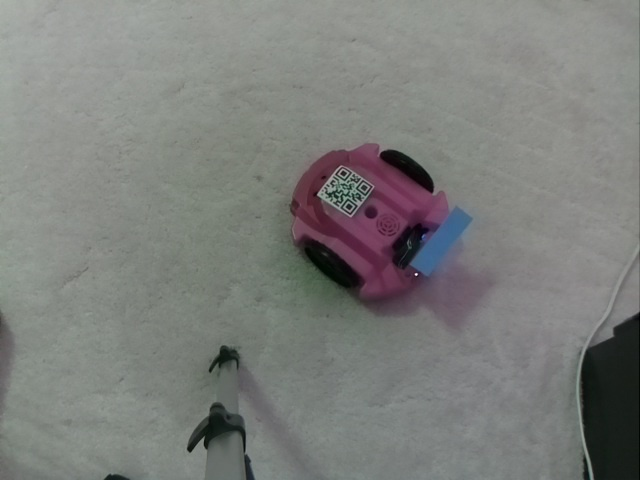chassis: (287, 141, 466, 305)
qr: (315, 166, 377, 220)
